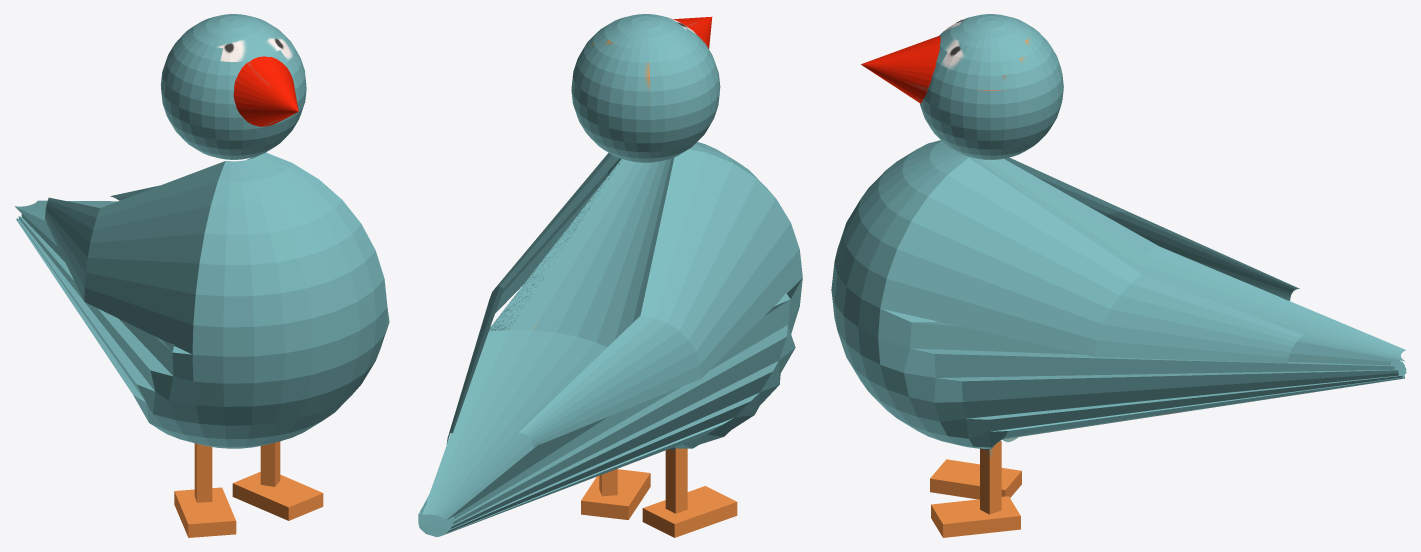
Rendered from Bird.fbx.
3 renders of one model, left to right at view 1: azimuth 30°, elevation 25°; view 2: azimuth 150°, elevation 25°; view 3: azimuth 270°, elevation 25°, orthographic. The views are drawn at different scales.
Parts seen in each view (by area): view 1: Cone; view 2: Cone; view 3: Cone.
Part boxes in pixels (box(x1,y1,x2,y2)): Cone: box(15, 14, 389, 537); Cone: box(418, 14, 802, 537); Cone: box(831, 14, 1406, 537).
Size of the model in its own units: 166 by 336 by 361.
Materials: 1 (1 with a texture image).
